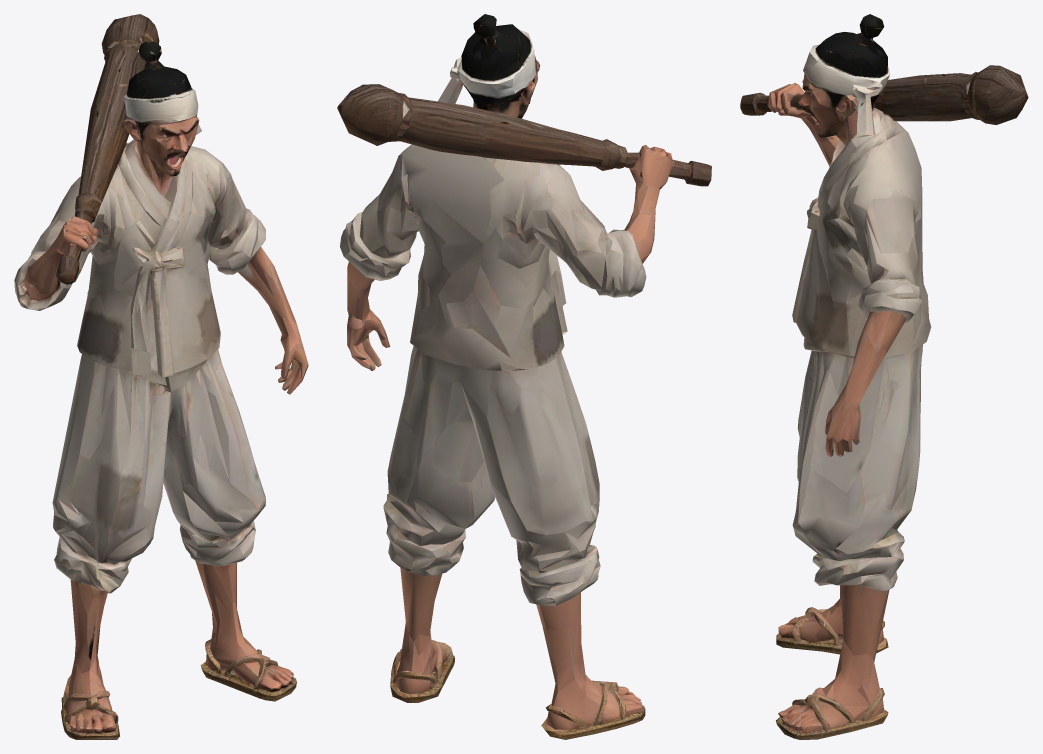
The model's file is rioter_town.glb.
The picture shows the model from 3 angles, left to right: view 1: azimuth 30°, elevation 25°; view 2: azimuth 150°, elevation 25°; view 3: azimuth 270°, elevation 25°; orthographic projection. The views are drawn at different scales.
Size of the model in its own units: 0.8952 by 1.9 by 0.7397.
1 material, 1 textured.
